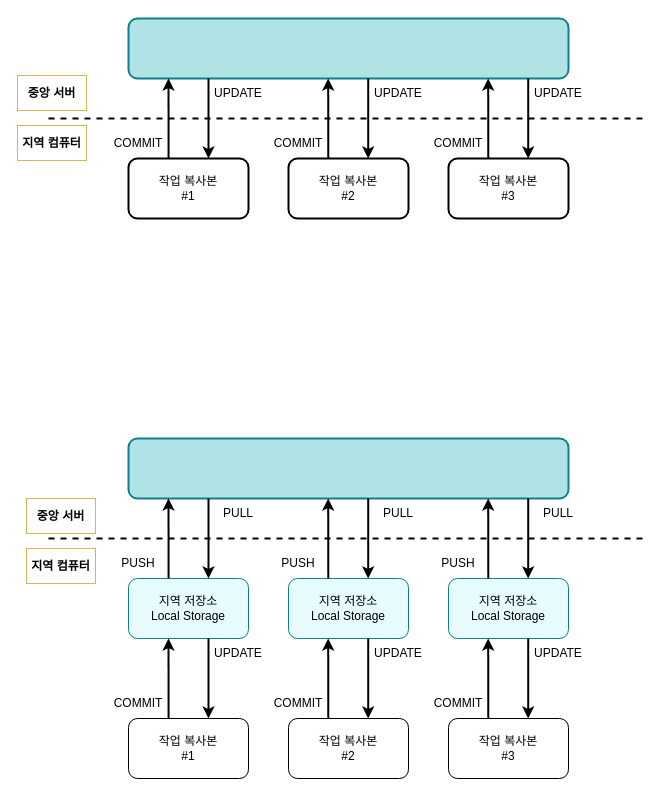
Image size: 668x796. Some labels were removed from this diagram. The centre of each missing label's shape, as x and y in pixels:
"원격 저장소 REMOTE STORAGE" goes at pixel 348 468.
"저장소 STORAGE" goes at pixel 348 48.
